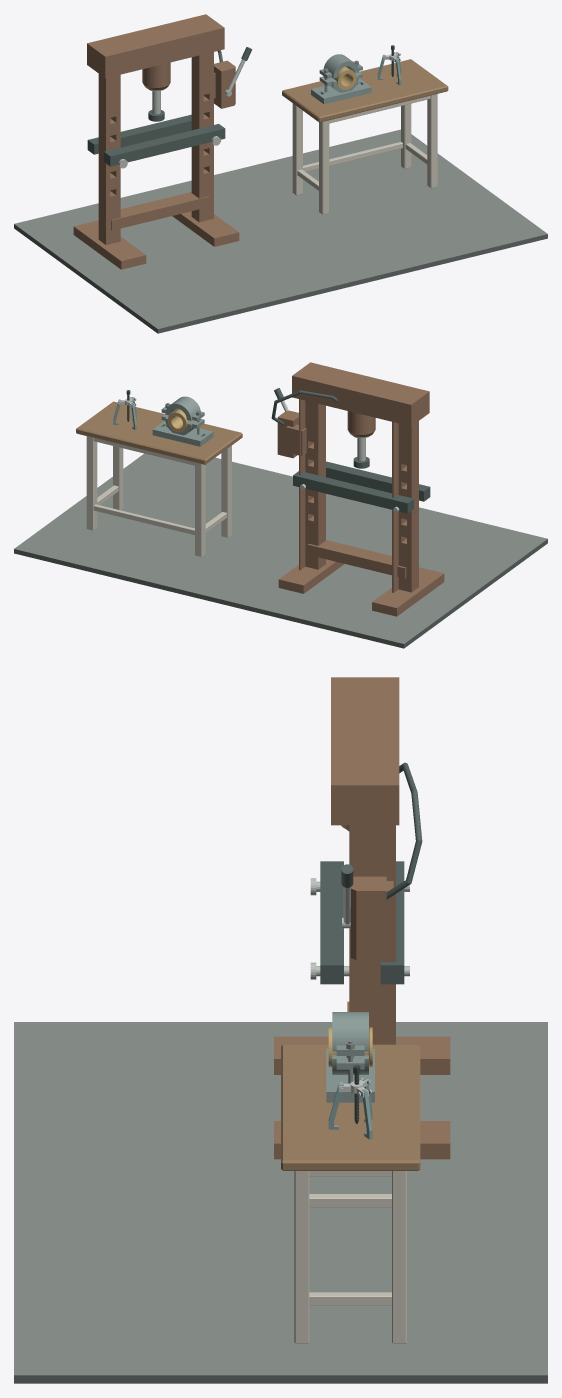
The picture shows the model from 3 angles, top to bottom: view 1: azimuth 30°, elevation 25°; view 2: azimuth 150°, elevation 25°; view 3: azimuth 270°, elevation 25°; orthographic projection. The views are drawn at different scales.
Parts seen in each view (by area): view 1: SCENE_ONLY__DisplayFloor, press__WholeUpperCrosshead, table__Complete work surface, press__WholeLeftFivePortUpright, press__WholeRightFivePortUpright, press__WholeFrontBedRail, press__WholeLowCrossTie, press__WholeLeftLongGroundFoot, press__WholeRearBedRail, press__WholeRightLongGroundFoot, table__Worktable leg, table__Worktable leg.002 (+8 smaller); view 2: SCENE_ONLY__DisplayFloor, press__WholeUpperCrosshead, table__Complete work surface, press__WholeLeftFivePortUpright, press__WholeRightFivePortUpright, press__WholeRearBedRail, press__WholeLowCrossTie, press__WholeLeftLongGroundFoot, press__WholeFrontBedRail, press__WholeRightLongGroundFoot, table__Worktable leg.003, press__WholeLeftDeepRearFlange (+13 smaller); view 3: SCENE_ONLY__DisplayFloor, table__Complete work surface, press__WholeUpperCrosshead, press__WholeRightFivePortUpright, press__WholeSidePumpCase, press__WholeFrontBedRail, table__Worktable leg.002, press__WholeRightDeepRearFlange, table__Worktable leg.003, press__WholeLeftLongGroundFoot, press__WholeRightLongGroundFoot, press__WholeRearBedRail (+5 smaller).
Boxes of the visible parts, left/top/right/bottom form: SCENE_ONLY__DisplayFloor: left=14, top=129, right=547, bottom=333; press__WholeUpperCrosshead: left=87, top=14, right=224, bottom=78; table__Complete work surface: left=282, top=59, right=448, bottom=122; press__WholeLeftFivePortUpright: left=98, top=74, right=120, bottom=244; press__WholeRightFivePortUpright: left=191, top=52, right=213, bottom=222; press__WholeFrontBedRail: left=104, top=124, right=225, bottom=166; press__WholeLowCrossTie: left=111, top=192, right=209, bottom=230; press__WholeLeftLongGroundFoot: left=73, top=220, right=146, bottom=269; press__WholeRearBedRail: left=87, top=114, right=191, bottom=154; press__WholeRightLongGroundFoot: left=172, top=211, right=239, bottom=246; table__Worktable leg: left=319, top=120, right=329, bottom=214; table__Worktable leg.002: left=427, top=94, right=437, bottom=188; SCENE_ONLY__DisplayFloor: left=14, top=453, right=547, bottom=648; press__WholeUpperCrosshead: left=292, top=362, right=429, bottom=426; table__Complete work surface: left=76, top=401, right=242, bottom=464; press__WholeLeftFivePortUpright: left=398, top=421, right=418, bottom=592; press__WholeRightFivePortUpright: left=305, top=400, right=325, bottom=569; press__WholeRearBedRail: left=293, top=471, right=413, bottom=513; press__WholeLowCrossTie: left=307, top=540, right=406, bottom=578; press__WholeLeftLongGroundFoot: left=372, top=567, right=444, bottom=616; press__WholeFrontBedRail: left=326, top=461, right=430, bottom=501; press__WholeRightLongGroundFoot: left=278, top=559, right=344, bottom=593; table__Worktable leg.003: left=86, top=436, right=97, bottom=530; press__WholeLeftDeepRearFlange: left=392, top=422, right=398, bottom=592; SCENE_ONLY__DisplayFloor: left=14, top=1022, right=547, bottom=1383; table__Complete work surface: left=281, top=1044, right=420, bottom=1170; press__WholeUpperCrosshead: left=331, top=677, right=399, bottom=825; press__WholeRightFivePortUpright: left=349, top=825, right=377, bottom=1044; press__WholeSidePumpCase: left=350, top=876, right=386, bottom=960; press__WholeFrontBedRail: left=320, top=861, right=343, bottom=984; table__Worktable leg.002: left=294, top=1171, right=309, bottom=1343; press__WholeRightDeepRearFlange: left=377, top=825, right=395, bottom=1044; table__Worktable leg.003: left=392, top=1171, right=406, bottom=1343; press__WholeLeftLongGroundFoot: left=274, top=1036, right=450, bottom=1074; press__WholeRightLongGroundFoot: left=274, top=1121, right=450, bottom=1159; press__WholeRearBedRail: left=380, top=861, right=404, bottom=984.
Size of the model in its own units: 3.6 by 1.82 by 2.3.
